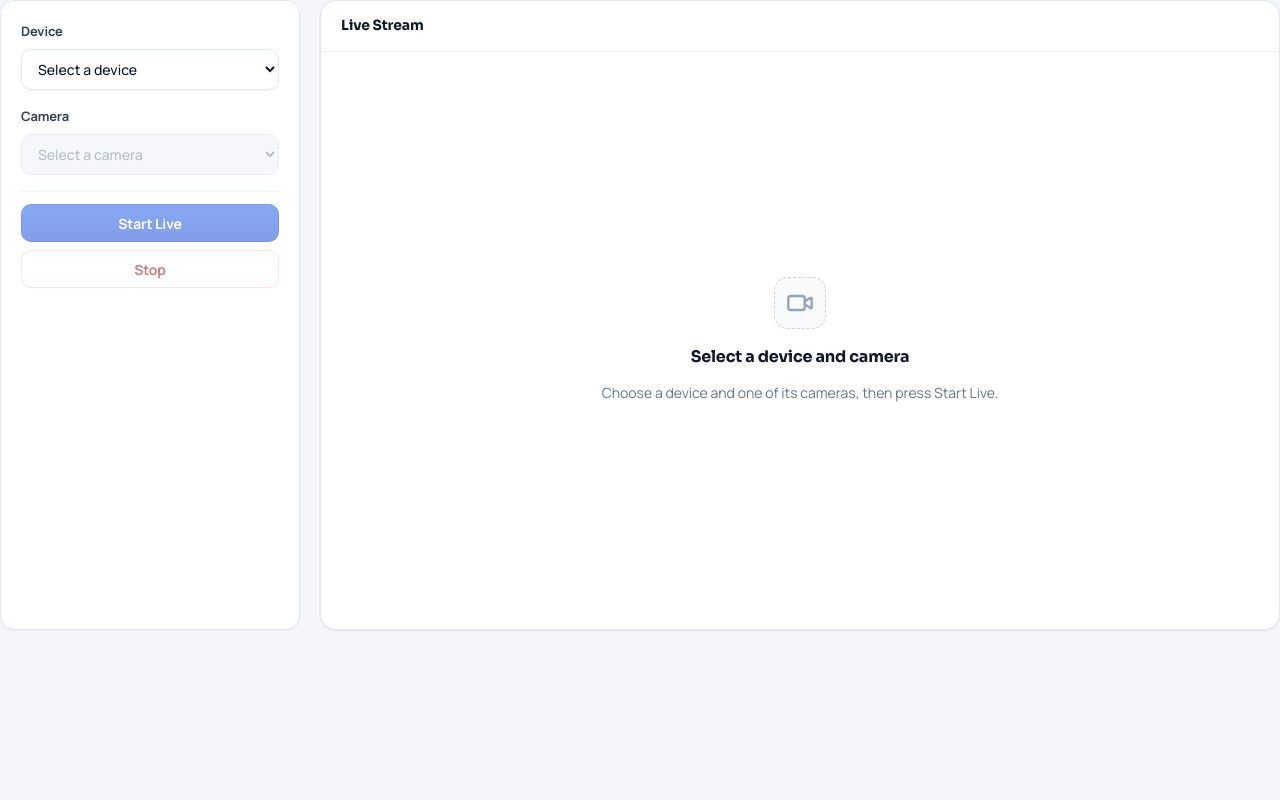
Scenario: VideoPage › maps a player error to the error state with the player's own message
Select "TERM12345678 — LSZ LSZ-C5804DG-Q-F" in the dropdown labelled "Device" at (150, 70), box [21,49,279,90]
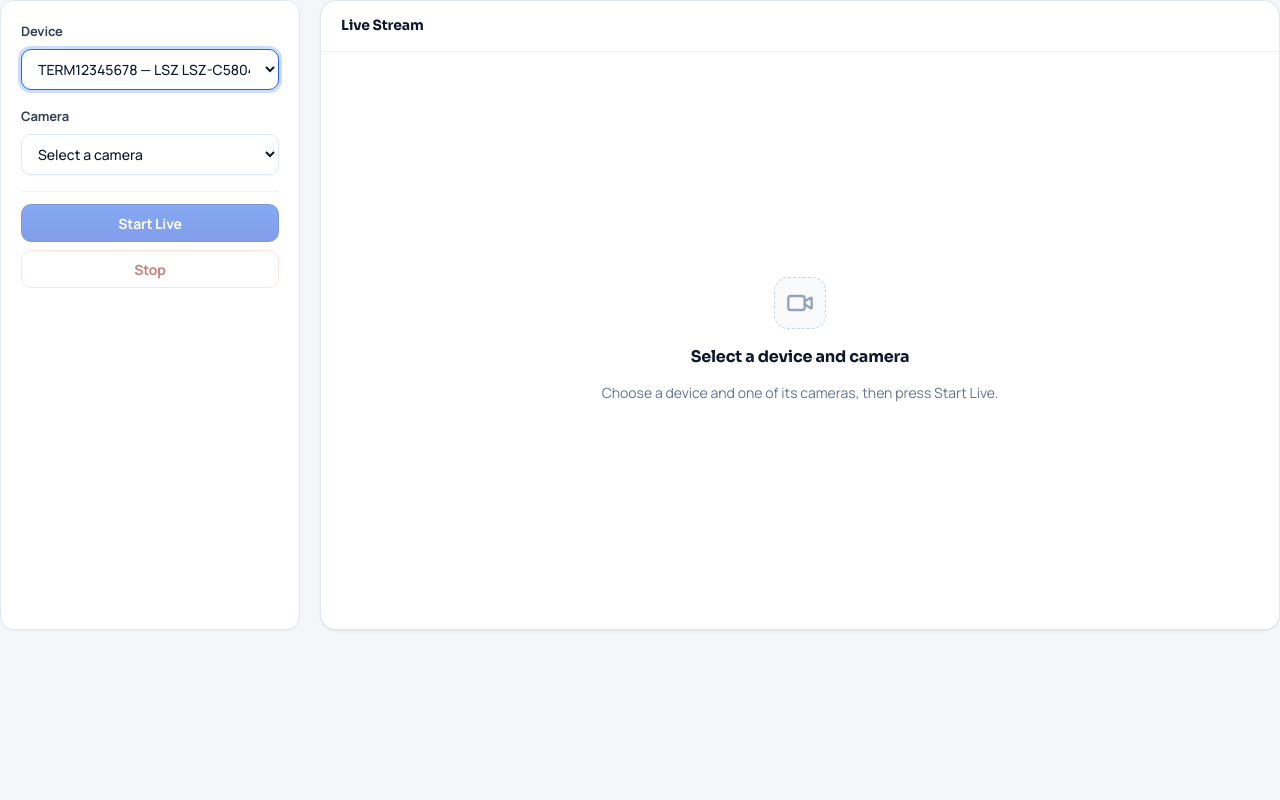
Select "Front (road_facing)" in the dropdown labelled "Camera" at (150, 155), box [21,134,279,175]
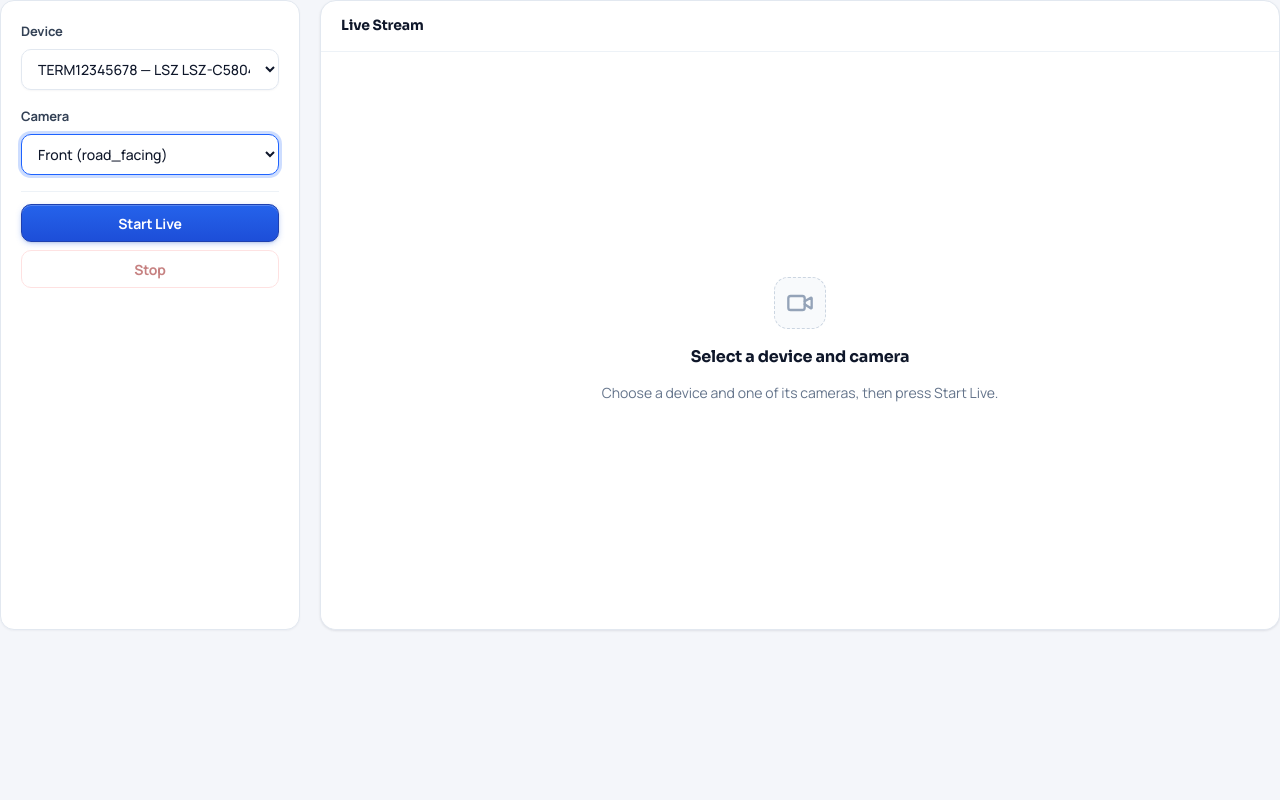
Click the button "Start Live" at (150, 223), box [21,204,279,242]
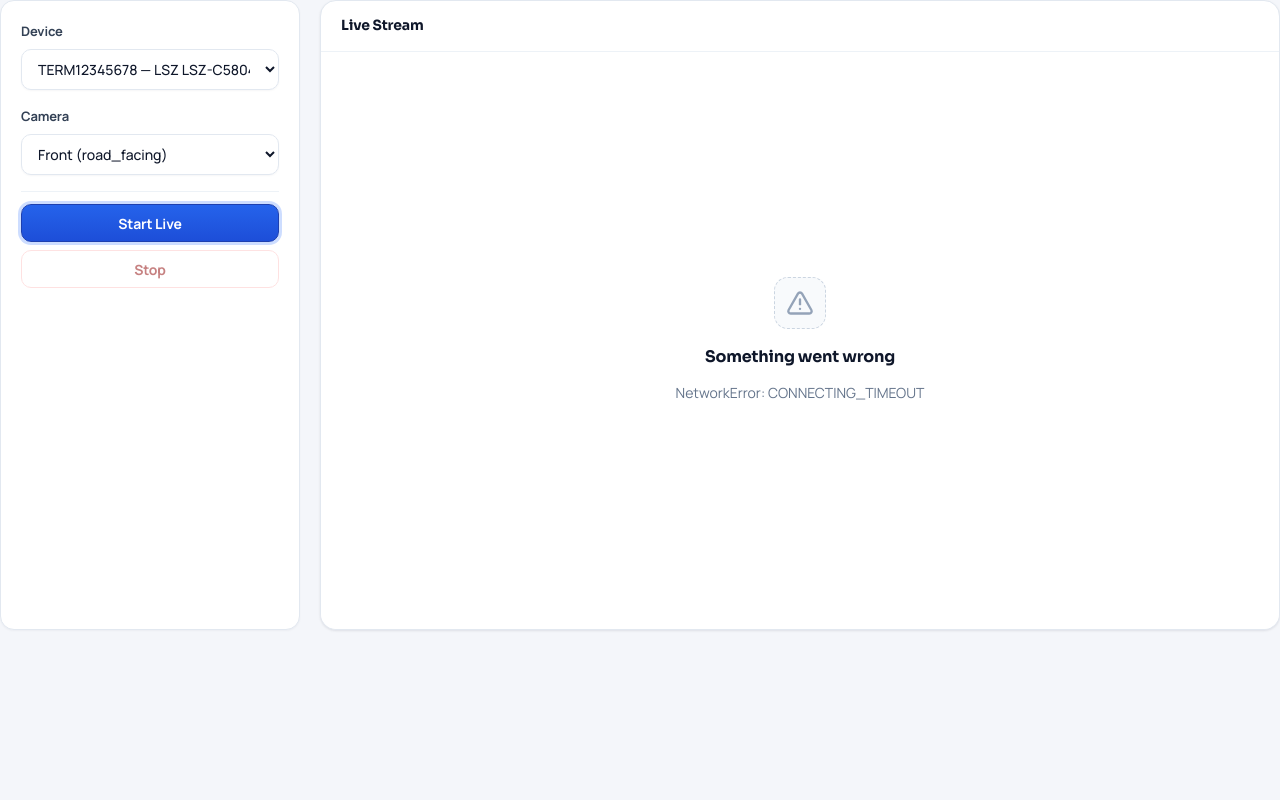
Now the text "NetworkError: CONNECTING_TIMEOUT" is shown, box [676,382,924,404]
